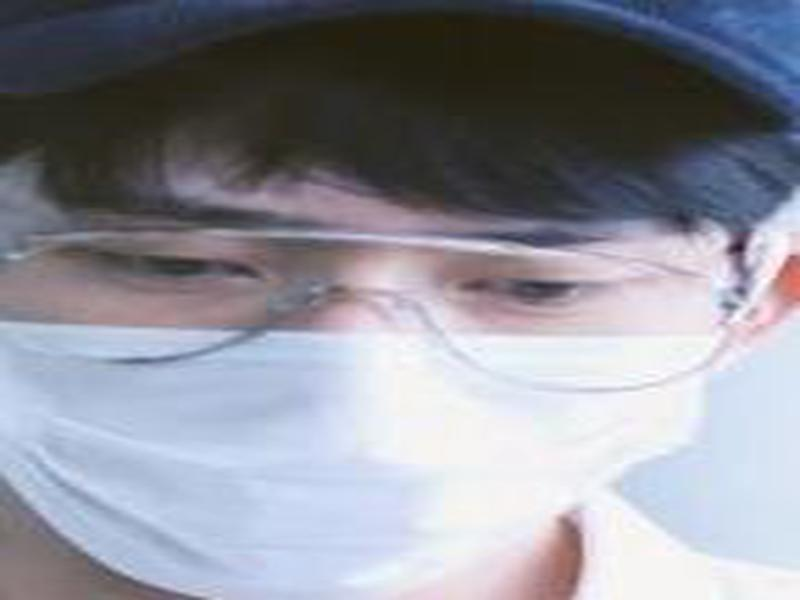with_mask: (1, 116, 736, 600)
